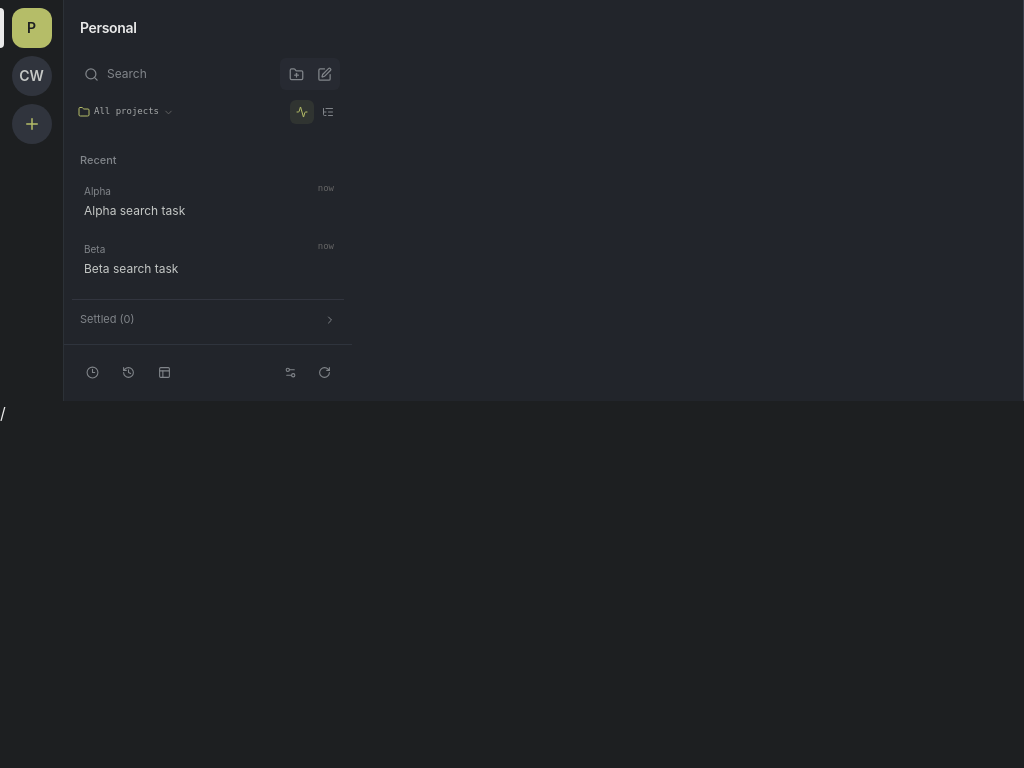
Scenario: profile rail › creates a profile from the rail without a native prompt
Click the button named "Create a profile".
click(32, 124)  # box [12,104,52,144]
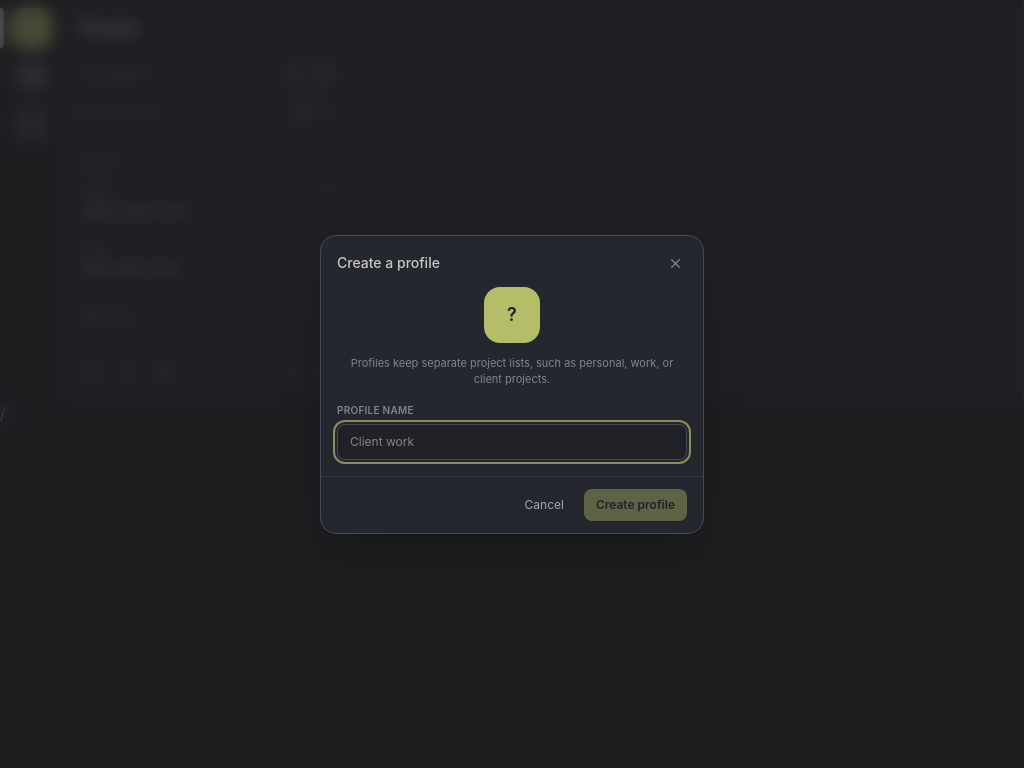
Now the button "Create profile" is disabled, box [584,488,687,520]
Type "  Side project " into the field labelled "Profile name".
click(512, 442); type("  Side project ")  # box [337,424,687,460]
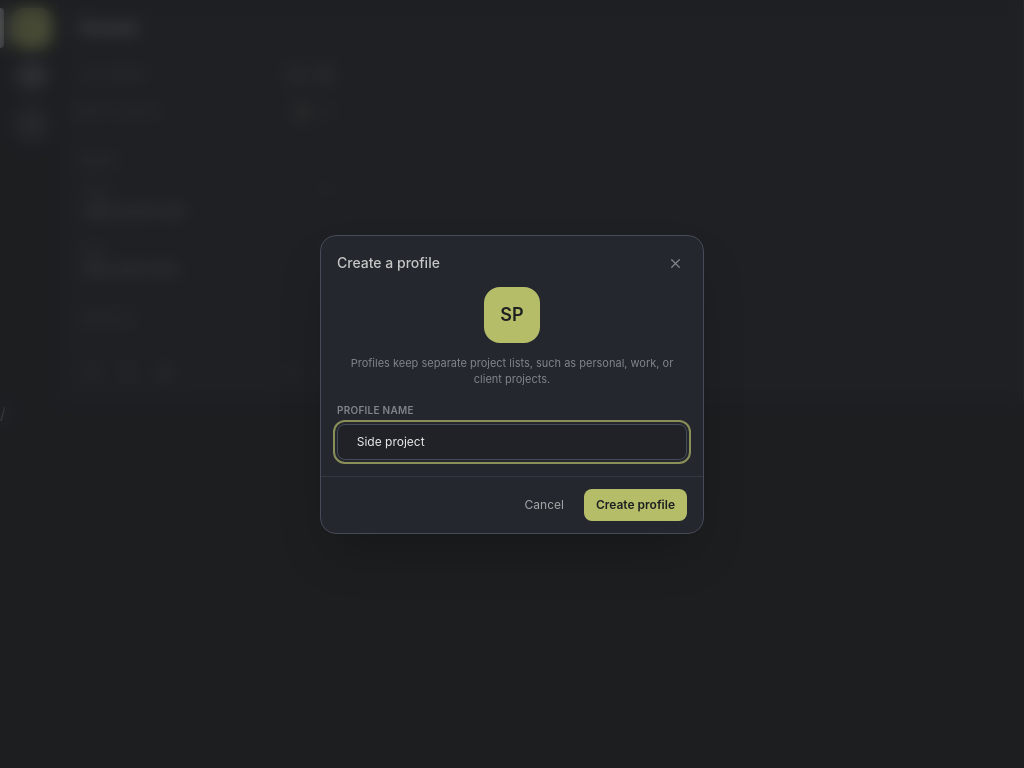
Click the button "Create profile".
click(635, 504)  # box [584,488,687,520]
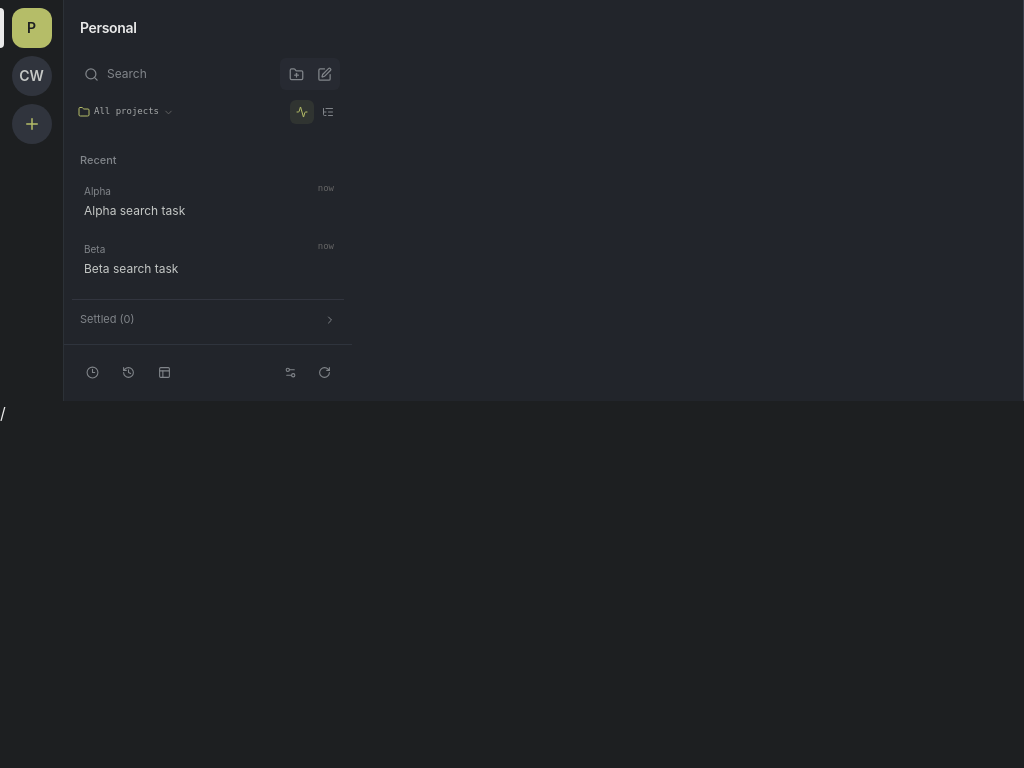
Now the heading "Create a profile" is gone
